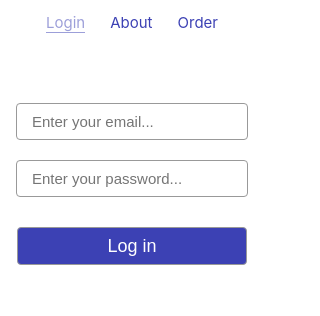
<LoginPass /> › should show email error message on invalid email
Type "usergmail.com" into the field with placeholder "Enter your email..." at (132, 122), box top-left (16, 103), bottom-right (248, 140)
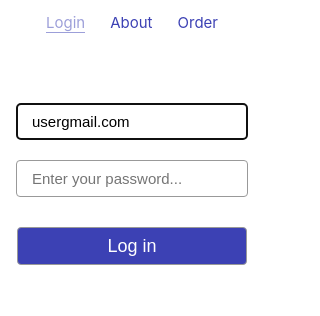
Click the button "Log in" at (132, 246), box top-left (17, 227), bottom-right (247, 265)
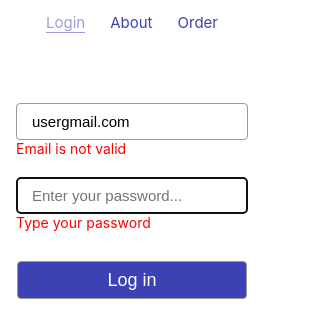
Check: the text "Email is not valid" is shown, box top-left (16, 140), bottom-right (126, 157)
